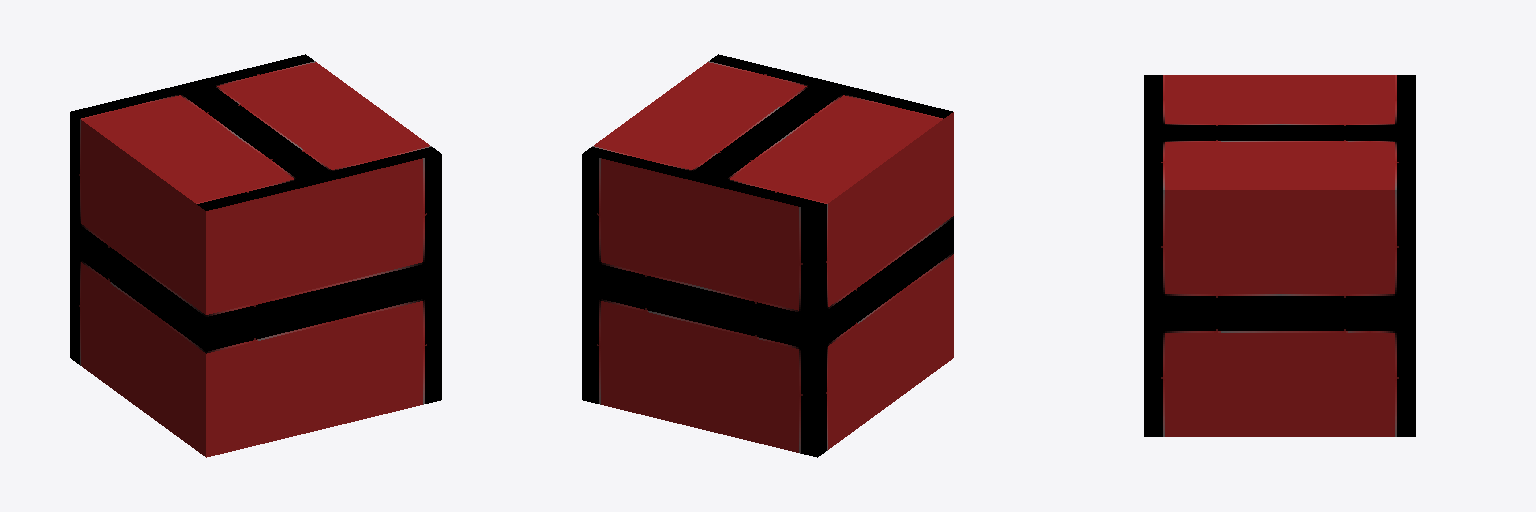
3 views of the same model, side by side, from view 1: azimuth 30°, elevation 25°; view 2: azimuth 150°, elevation 25°; view 3: azimuth 270°, elevation 25° (orthographic).
Parts seen in each view (by area): view 1: Cube; view 2: Cube; view 3: Cube.
Boxes of the visible parts, x1,y1,x2,y2 form: Cube: [70, 54, 441, 457]; Cube: [582, 54, 953, 457]; Cube: [1144, 75, 1415, 436].
Bounding box in the file's own units: 2 × 2 × 2.
1 materials, 1 textured.